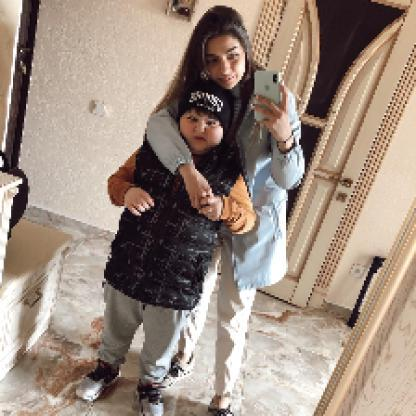child: (75, 79, 259, 415)
